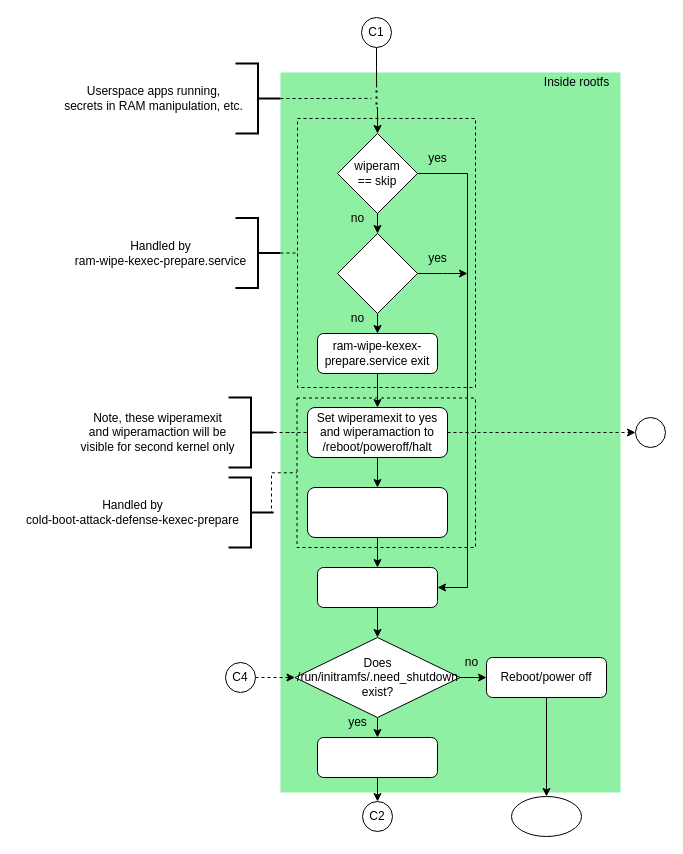
This 683x854 diagram has some shape labels left out. The centre of each missing label's shape, as x and y in pixels:
C5: pixel 650 432
dracut-shutdown.service exit: pixel 377 587
kexec -l: pixel 377 512
Power down: pixel 546 816
Restore RAM disk: pixel 377 757
wiperamexit == yes: pixel 377 273
